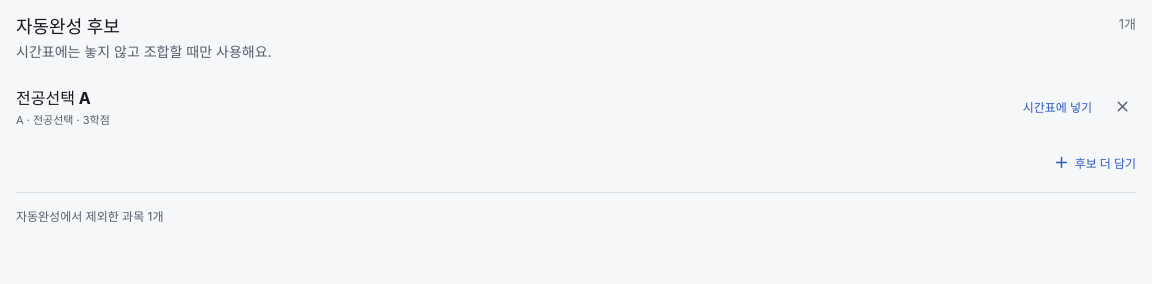
it: candidate course basket › keeps passive choices separate and exposes direct promote, remove, and add actions
Expected: the heading "자동완성 후보" is shown, [16,16,120,37]
Expected: the text "전공선택 A" is shown, [16,88,91,108]
Click the button "시간표에 넣기" at (1057, 106), box [1015,84,1100,128]
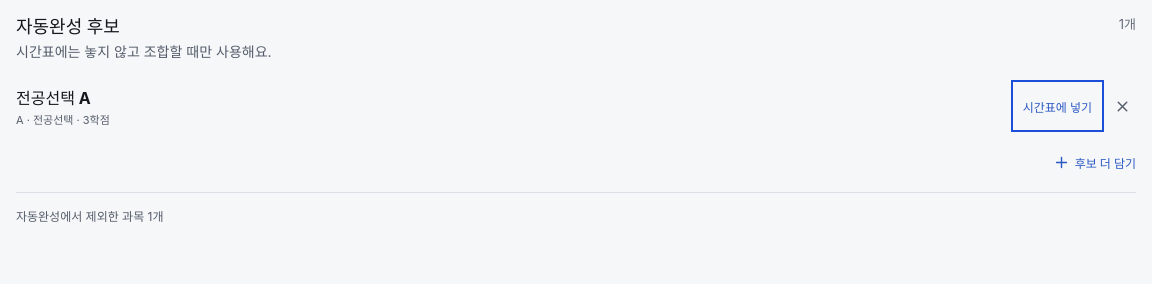
Click the button named "전공선택 A 후보에서 삭제" at (1122, 106), box [1100,84,1144,128]
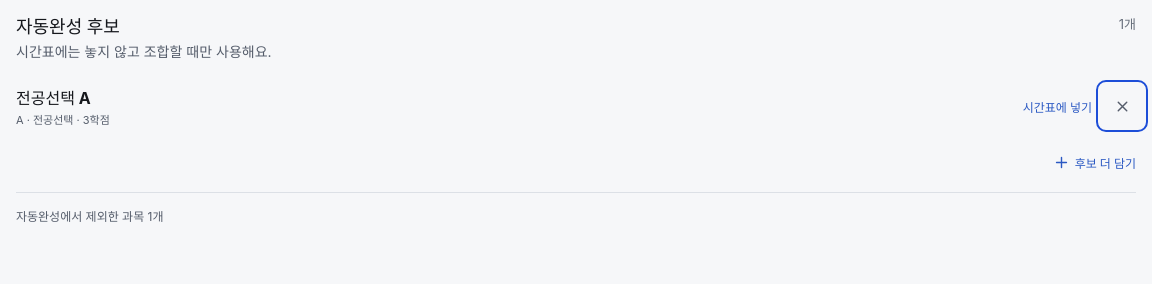
Click the button "후보 더 담기" at (1094, 162), box [1045,140,1144,184]
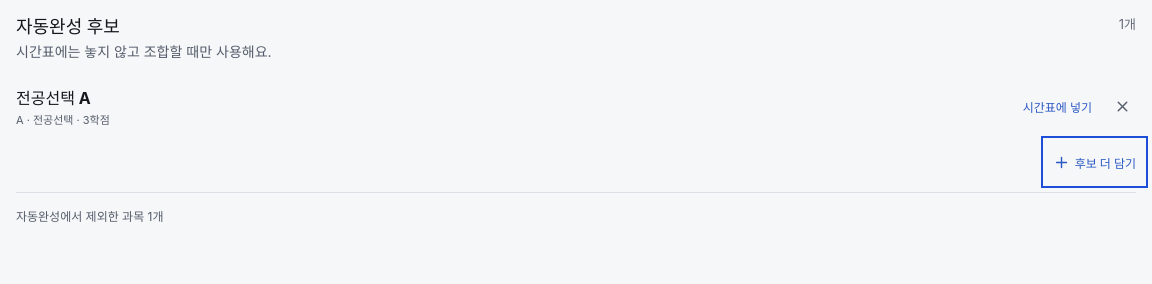
Click the heading "자동완성에서 제외한 과목 1개" at (90, 216), box [16,208,164,224]
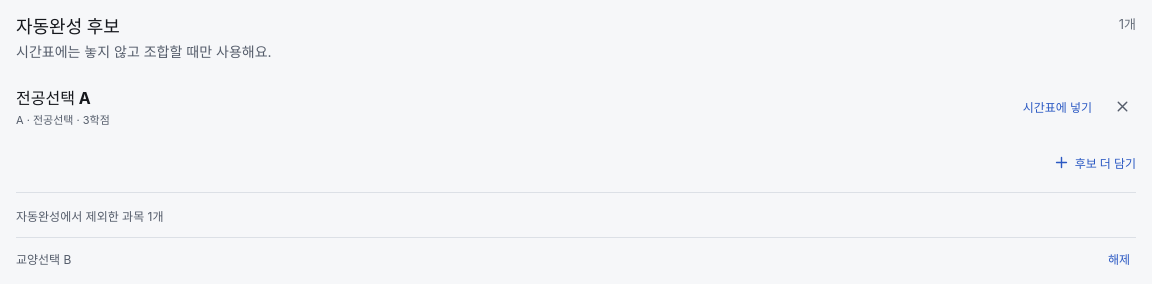
Now the text "교양선택 B" is shown, box [16,250,71,267]
